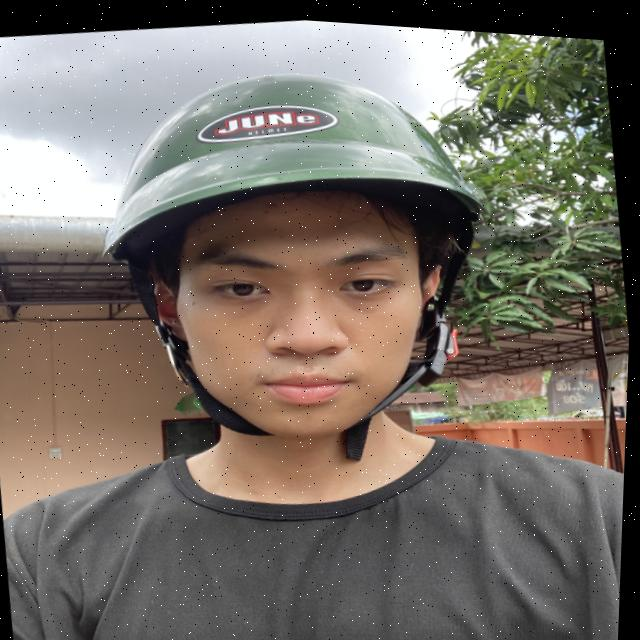helmet: (68, 27, 528, 474)
